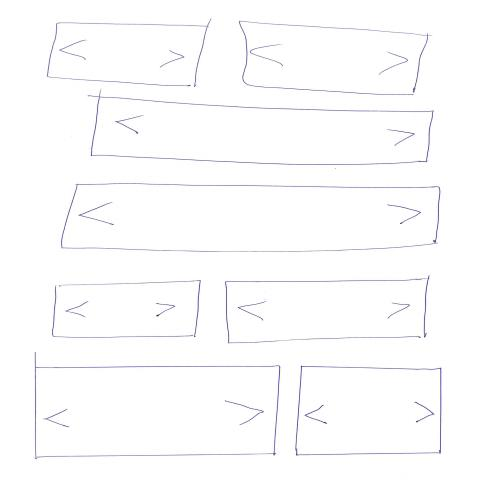Carousel: (59, 183, 442, 254), (91, 97, 435, 168), (34, 366, 281, 460), (239, 21, 430, 96), (225, 278, 430, 346), (295, 366, 445, 457), (47, 22, 210, 89), (51, 279, 202, 340)
